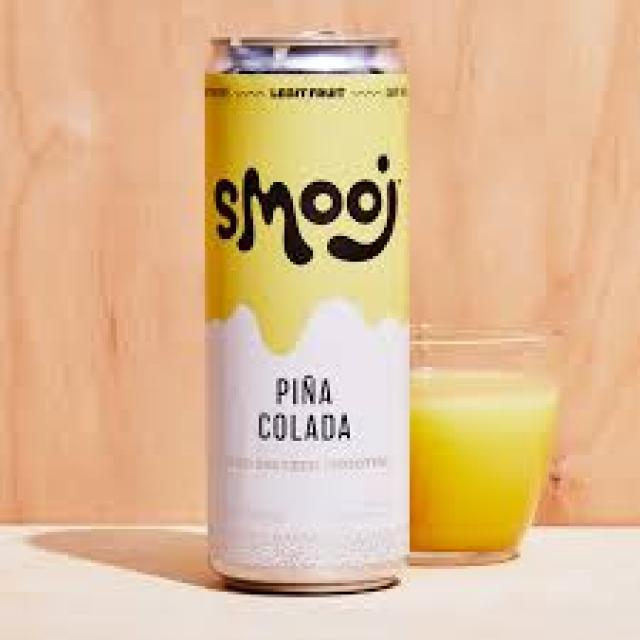Cans: (193, 22, 421, 592)
